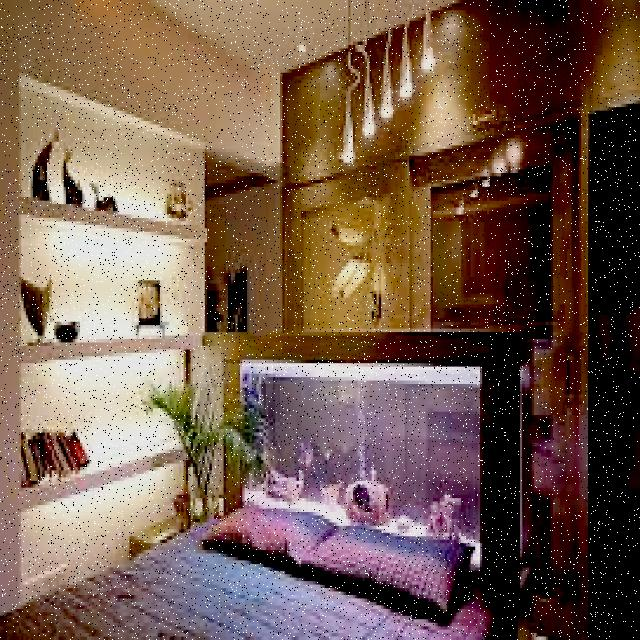bed: (0, 500, 509, 640)
